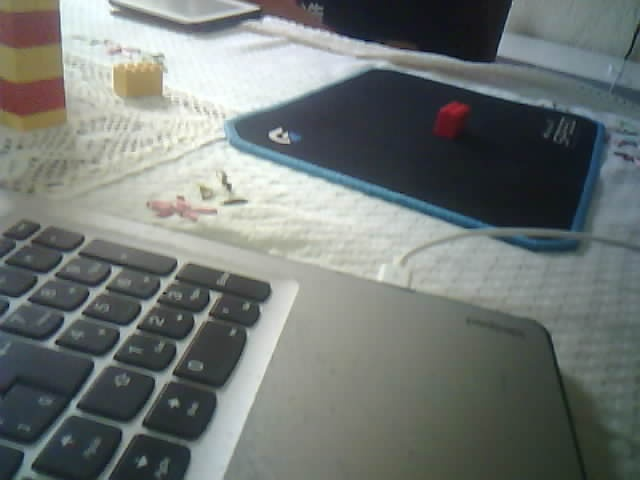lego: (1, 1, 67, 131), (112, 62, 163, 99), (431, 100, 470, 139)
